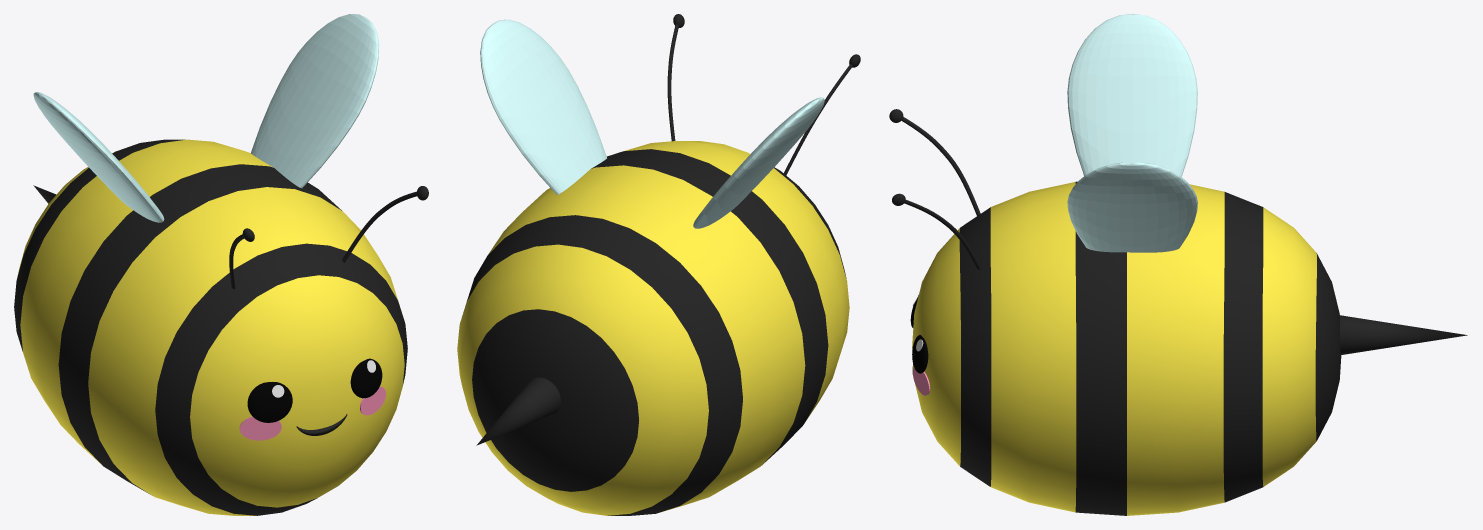
Rendered from BEE.fbx.
The picture shows the model from 3 angles, left to right: view 1: azimuth 30°, elevation 25°; view 2: azimuth 150°, elevation 25°; view 3: azimuth 270°, elevation 25°; orthographic projection. The views are drawn at different scales.
Parts seen in each view (by area): view 1: body, fly l, fly r, eye r, eye l, cheek r, antennae l, cheek l; view 2: body, fly l, fly r, Cone, antennae l, antennae r; view 3: body, fly r, fly l, Cone, antennae r, antennae l.
Part boxes in pixels (x1,y1,x2,y2): body: [14, 139, 407, 515]; fly l: [251, 14, 379, 188]; fly r: [33, 92, 164, 222]; eye r: [247, 382, 292, 422]; eye l: [350, 358, 382, 398]; cheek r: [239, 416, 281, 440]; antennae l: [342, 186, 428, 262]; cheek l: [360, 386, 386, 415]; body: [457, 141, 849, 515]; fly l: [480, 19, 606, 194]; fly r: [693, 97, 824, 228]; Cone: [476, 377, 560, 445]; antennae l: [667, 14, 684, 141]; antennae r: [783, 54, 860, 176]; body: [912, 181, 1341, 515]; fly r: [1067, 14, 1197, 176]; fly l: [1067, 162, 1197, 252]; Cone: [1340, 315, 1467, 354]; antennae r: [889, 109, 980, 215]; antennae l: [892, 193, 980, 269].
Size of the model in its own units: 212 by 269 by 343.
